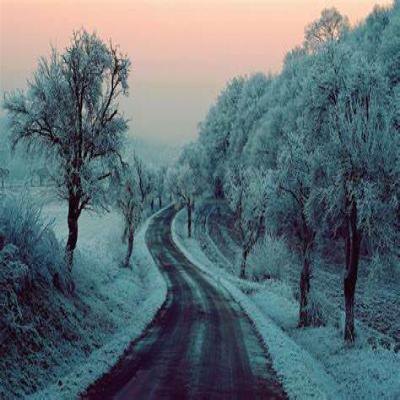iced-road: (83, 206, 287, 399)
